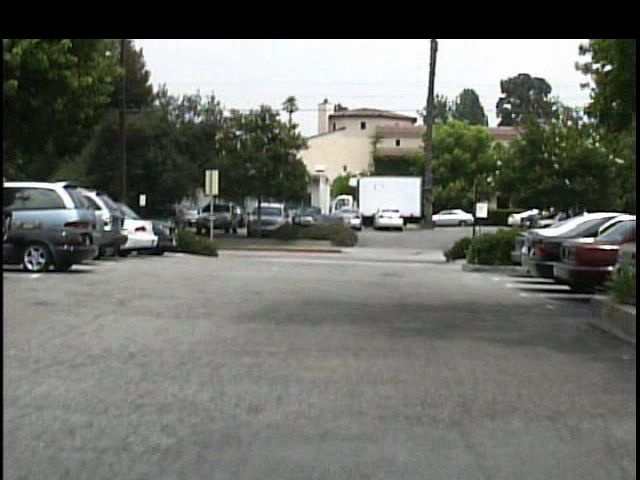person: (172, 202, 194, 243)
